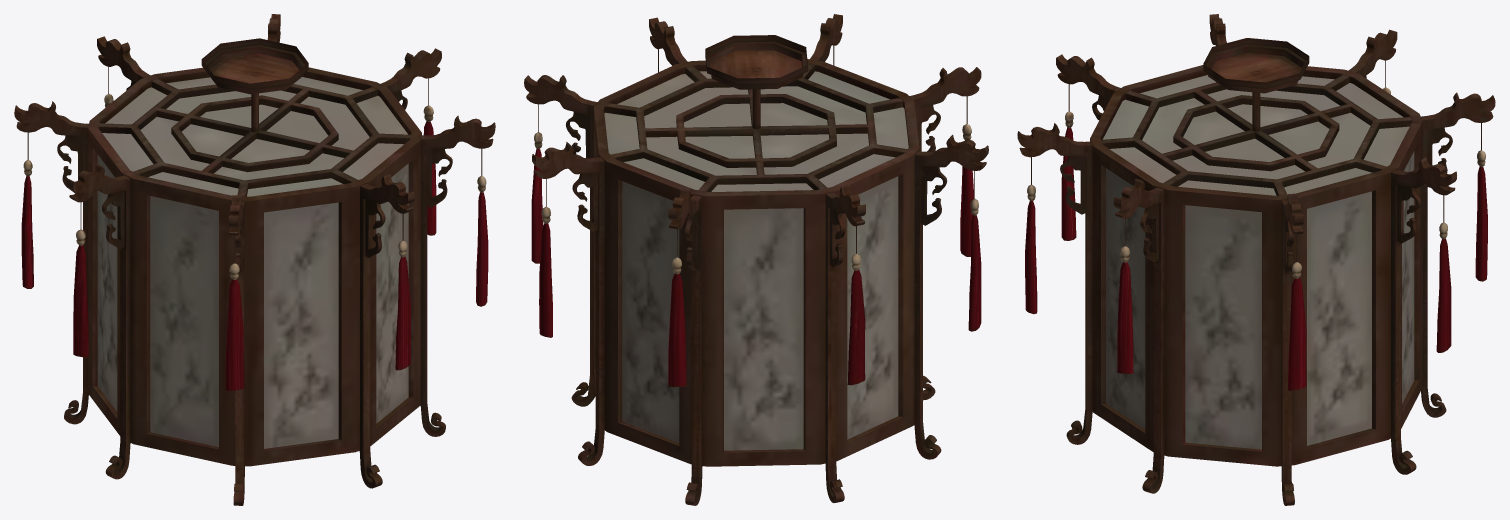
Rendered from ph-chinese_chandelier.glb.
The picture shows the model from 3 angles, left to right: view 1: azimuth 30°, elevation 25°; view 2: azimuth 150°, elevation 25°; view 3: azimuth 270°, elevation 25°; orthographic projection.
Parts seen in each view (by area): view 1: chinese_chandelier; view 2: chinese_chandelier; view 3: chinese_chandelier.
Part boxes in pixels (x1,y1,x2,y2): chinese_chandelier: (14,14,495,505); chinese_chandelier: (524,14,988,505); chinese_chandelier: (1017,14,1495,505).
Size of the model in its own units: 0.9996 by 0.8516 by 1.
1 material, 1 textured.
